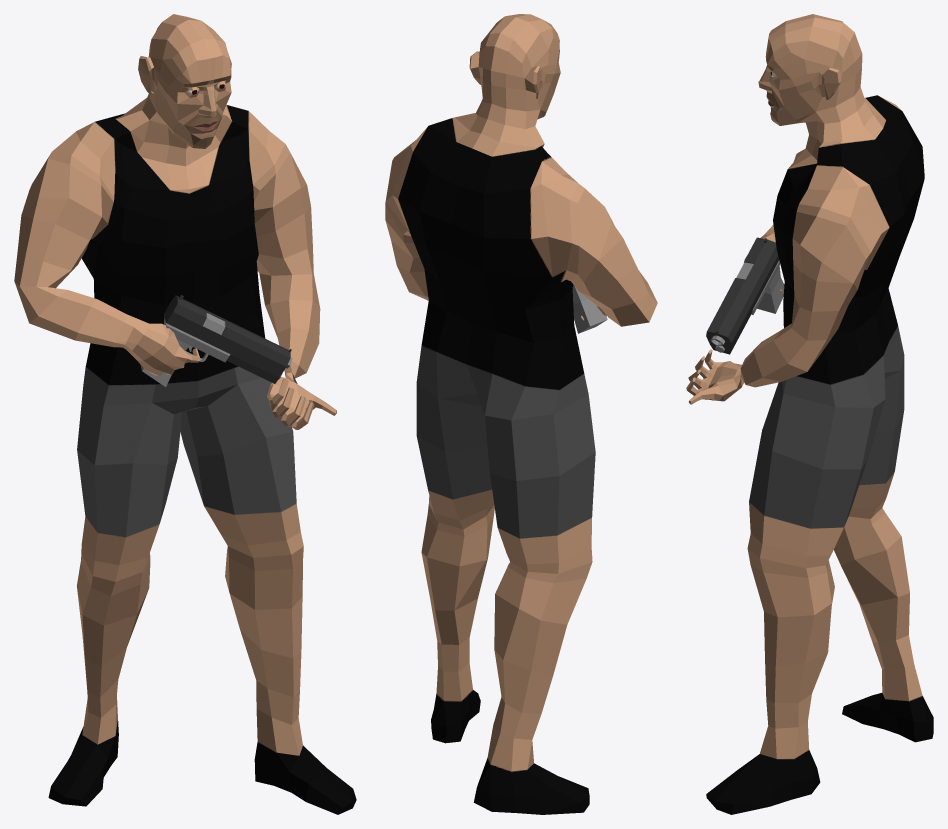
File: PlayerIdle(10).obj
3 views of the same model, side by side, from view 1: azimuth 30°, elevation 25°; view 2: azimuth 150°, elevation 25°; view 3: azimuth 270°, elevation 25° (orthographic). The views are drawn at different scales.
Visible parts, largest first — view 1: Plane002, Box003; view 2: Plane002, Box003; view 3: Plane002, Box003.
Part boxes in pixels (x1=…): Plane002: x1=14, y1=14, x2=356, y2=814; Box003: x1=140, y1=295, x2=292, y2=386; Plane002: x1=385, y1=14, x2=657, y2=814; Box003: x1=572, y1=285, x2=607, y2=333; Plane002: x1=686, y1=14, x2=933, y2=814; Box003: x1=706, y1=237, x2=784, y2=354.
Size of the model in its own units: 677 by 1808 by 548.
